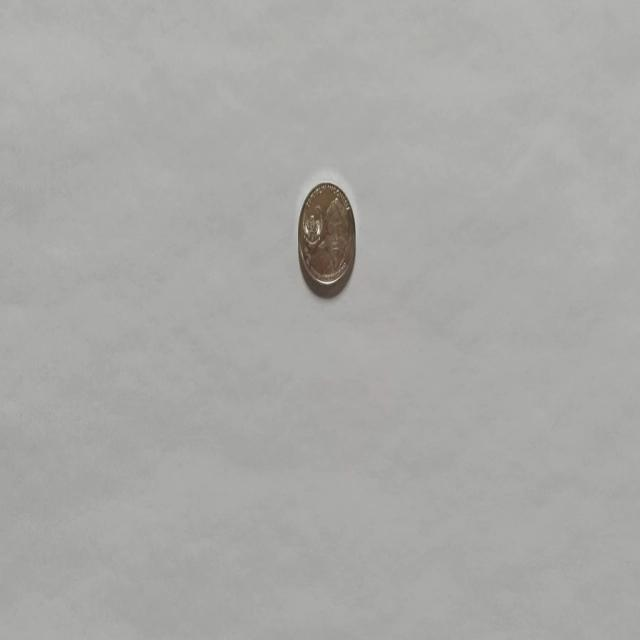dua ratus rupiah: (296, 180, 356, 296)
